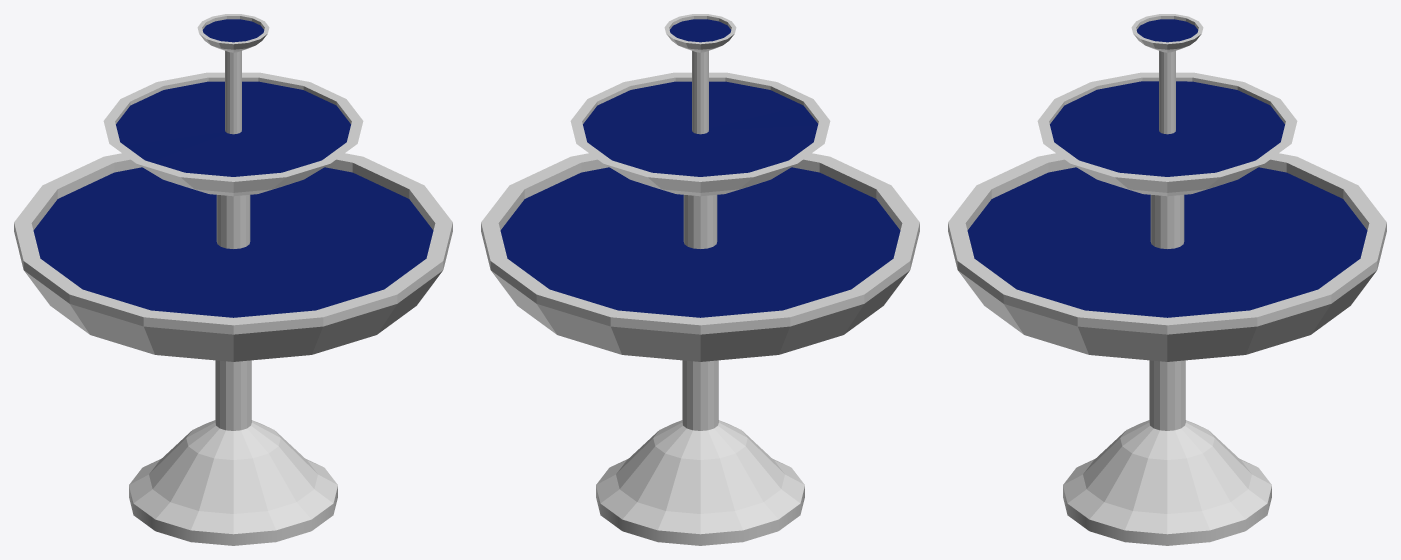
Rendered from Fountain.fbx.
3 renders of one model, left to right at view 1: azimuth 30°, elevation 25°; view 2: azimuth 150°, elevation 25°; view 3: azimuth 270°, elevation 25°, orthographic.
Parts seen in each view (by area): view 1: Cylinder001; view 2: Cylinder001; view 3: Cylinder001.
Boxes of the visible parts, box(x1,y1,x2,y2) form: Cylinder001: box(14, 14, 452, 545); Cylinder001: box(481, 14, 919, 545); Cylinder001: box(948, 14, 1386, 545).
Bounding box in the file's own units: 162 × 194 × 163.
